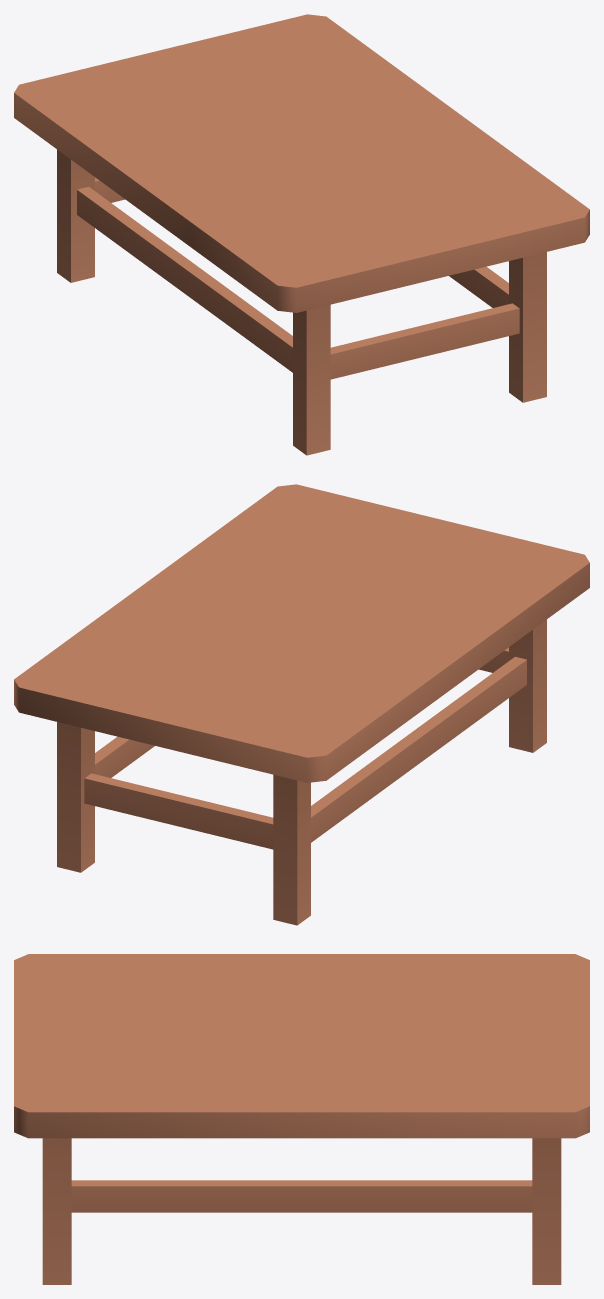
Rendered from Stall.glb.
The picture shows the model from 3 angles, top to bottom: view 1: azimuth 30°, elevation 25°; view 2: azimuth 150°, elevation 25°; view 3: azimuth 270°, elevation 25°; orthographic projection. The views are drawn at different scales.
Parts seen in each view (by area): view 1: stall; view 2: stall; view 3: stall.
Boxes of the visible parts, <box> form: stall: <box>14,14,589,455</box>; stall: <box>14,484,589,925</box>; stall: <box>14,954,589,1284</box>.
Size of the model in its own units: 0.65 by 0.3655 by 1.
1 material, 1 textured.
